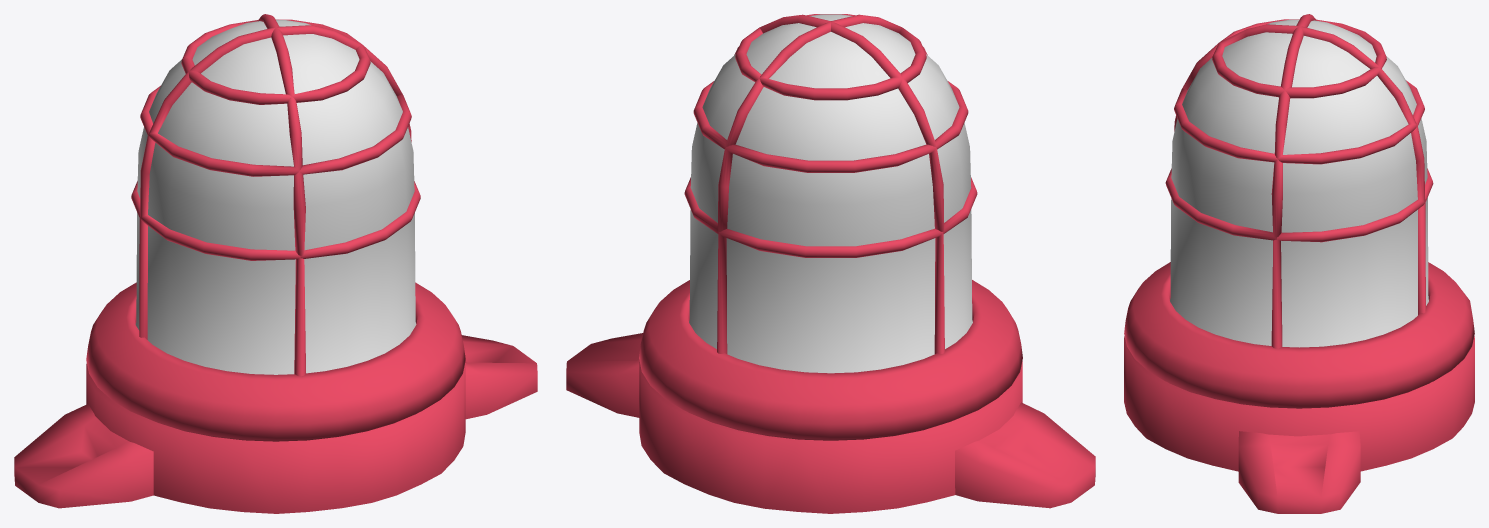
Rendered from light.fbx.
3 views of the same model, side by side, from view 1: azimuth 30°, elevation 25°; view 2: azimuth 150°, elevation 25°; view 3: azimuth 270°, elevation 25° (orthographic). The views are drawn at different scales.
Parts seen in each view (by area): view 1: light; view 2: light; view 3: light.
Boxes of the visible parts, x1,y1,x2,y2 form: light: (14,14,537,513); light: (566,14,1095,513); light: (1124,14,1474,513).
Bounding box in the file's own units: 4.87 × 3.8 × 3.22.
